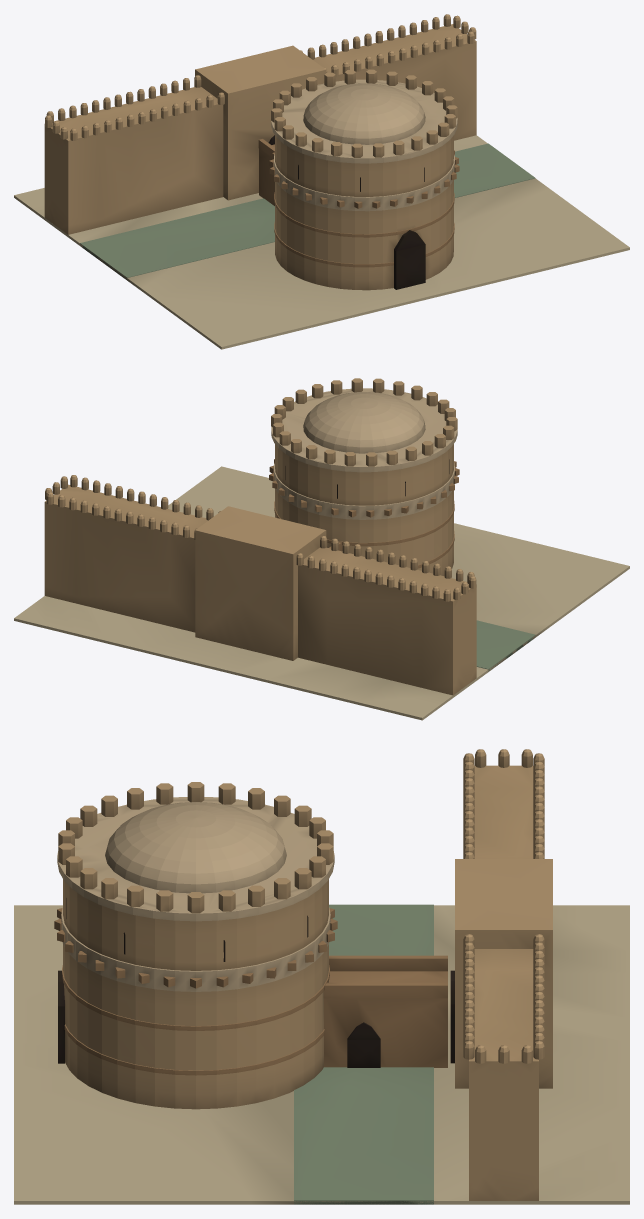
File: wastani-gate.glb
The picture shows the model from 3 angles, top to bottom: view 1: azimuth 30°, elevation 25°; view 2: azimuth 150°, elevation 25°; view 3: azimuth 270°, elevation 25°; orthographic projection. The views are drawn at different scales.
Parts seen in each view (by area): view 1: p0_ground, p1_wall and bridge, p2_tower, p3_roof; view 2: p1_wall and bridge, p0_ground, p2_tower, p3_roof; view 3: p0_ground, p2_tower, p1_wall and bridge, p3_roof.
Part boxes in pixels (bbox=[...]): p0_ground: bbox=[14, 135, 629, 349]; p1_wall and bridge: bbox=[44, 14, 476, 234]; p2_tower: bbox=[269, 69, 459, 290]; p3_roof: bbox=[303, 83, 425, 144]; p1_wall and bridge: bbox=[44, 475, 476, 695]; p0_ground: bbox=[14, 466, 629, 720]; p2_tower: bbox=[269, 378, 459, 576]; p3_roof: bbox=[303, 392, 425, 453]; p0_ground: bbox=[14, 904, 629, 1204]; p2_tower: bbox=[54, 782, 337, 1109]; p1_wall and bridge: bbox=[323, 749, 552, 1200]; p3_roof: bbox=[105, 802, 286, 893].
Size of the model in its own units: 50.8 by 18.82 by 44.
